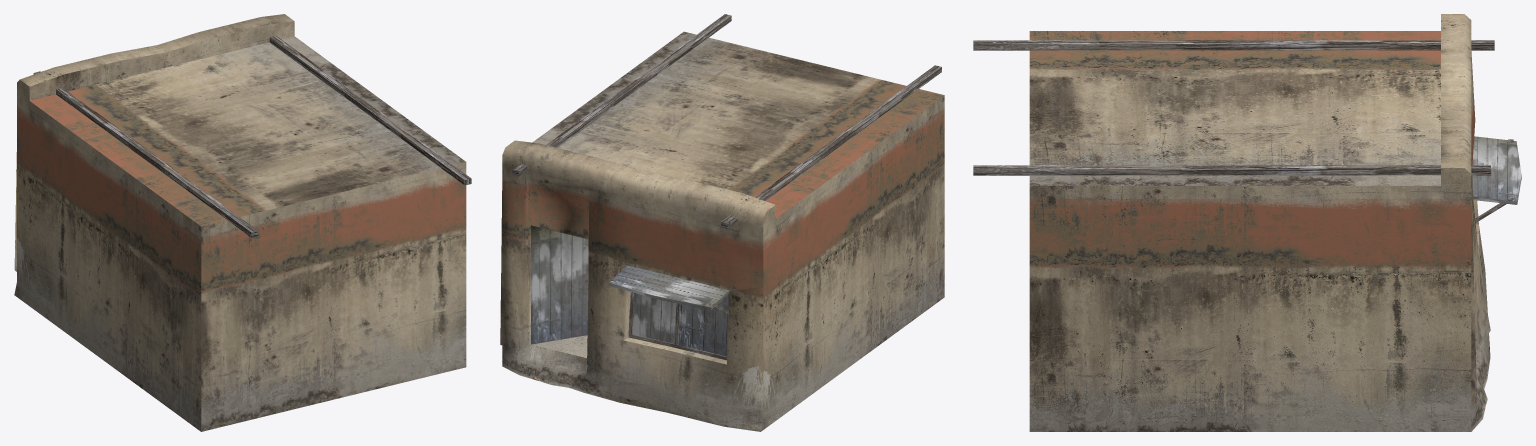
Rendered from BuildingR.obj.
The picture shows the model from 3 angles, left to right: view 1: azimuth 30°, elevation 25°; view 2: azimuth 150°, elevation 25°; view 3: azimuth 270°, elevation 25°; orthographic projection. The views are drawn at different scales.
Parts seen in each view (by area): view 1: BuildingR; view 2: BuildingR; view 3: BuildingR.
Part boxes in pixels (x1=…): BuildingR: x1=14, y1=14, x2=471, y2=431; BuildingR: x1=500, y1=14, x2=944, y2=431; BuildingR: x1=973, y1=14, x2=1521, y2=431.
Size of the model in its own units: 180 by 145 by 270.
